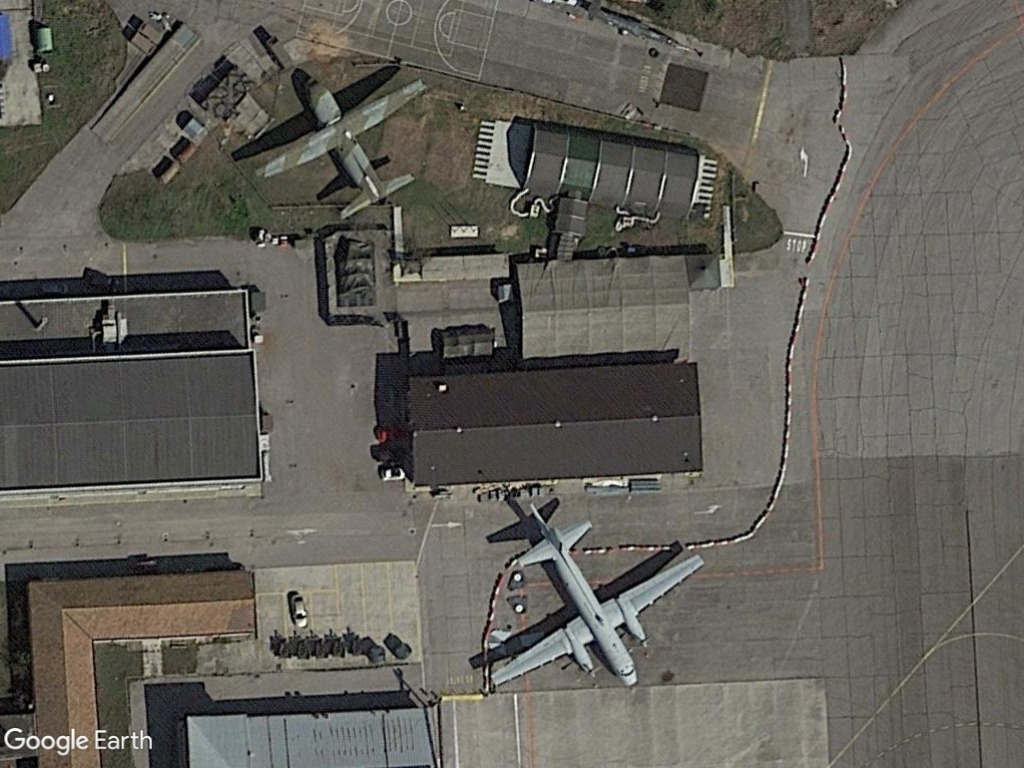car: (285, 590, 314, 632)
propeller: (487, 501, 705, 704), (249, 77, 432, 224)
